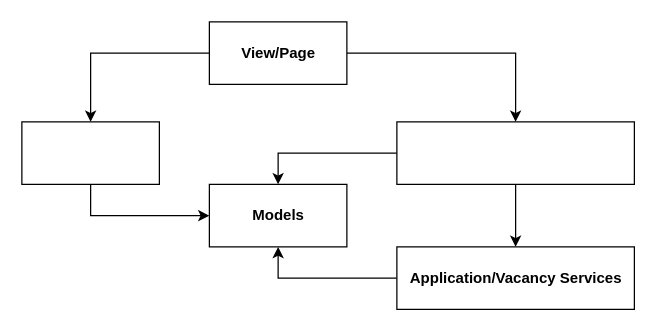
This 656x331 diagram has some shape labels left out. Each missing label, with the box of its shape:
Application/Vacancy Controllers: (396, 121, 634, 184)
UserManager: (21, 121, 159, 184)
